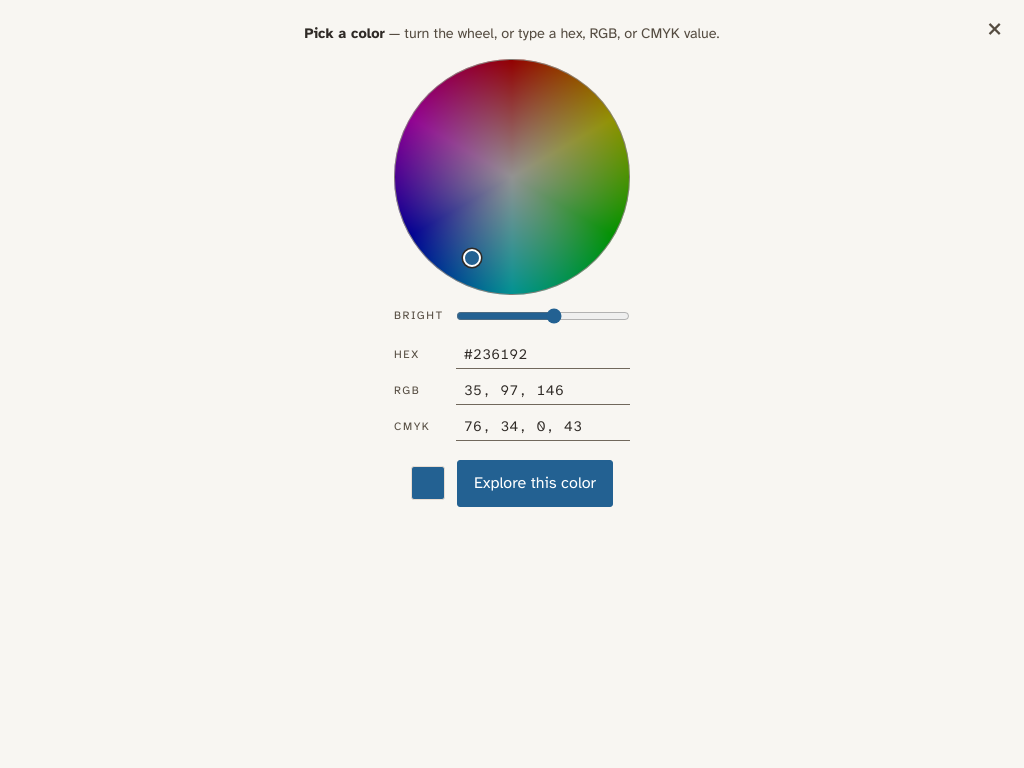
Test: ColorPicker (jsdom) › propagates a typed hex to the other notations
This screenshot has width=1024, height=768.
Replace the text in the field labelled "HEX" with "#F26522" at (543, 355), box [456,341,630,369]
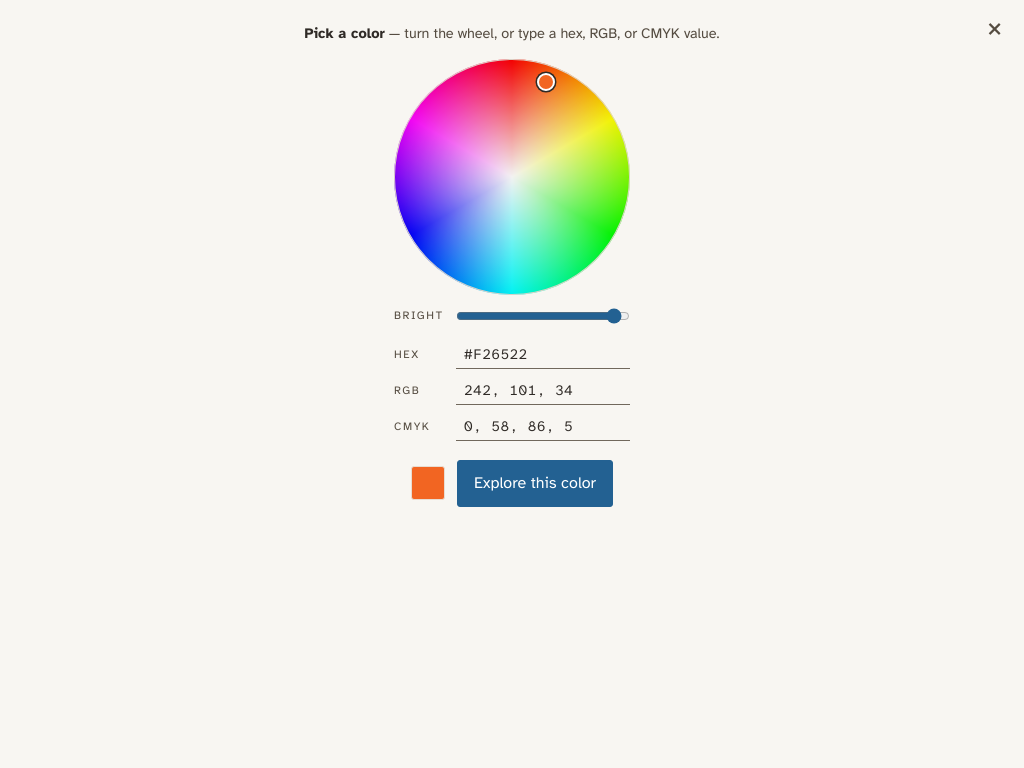
Expected: the field labelled "RGB" holds "242, 101, 34", [456,377,630,405]
Expected: the field labelled "CMYK" holds "0, 58, 86, 5", [456,413,630,441]
